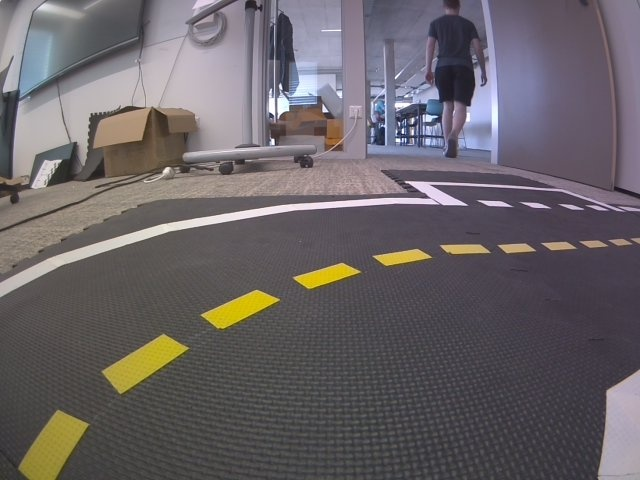freeSlot: (406, 180, 622, 212)
